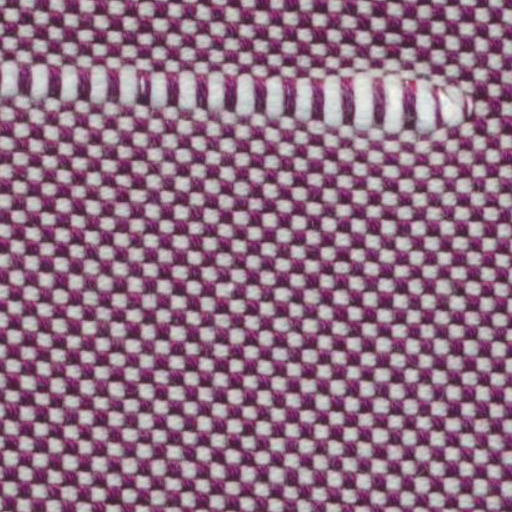DaiSha: (8, 46, 478, 138)
